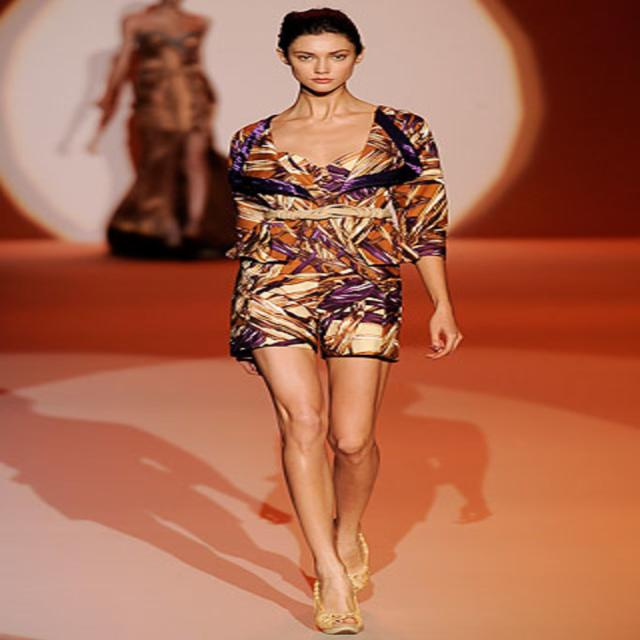Person: (86, 0, 213, 252)
